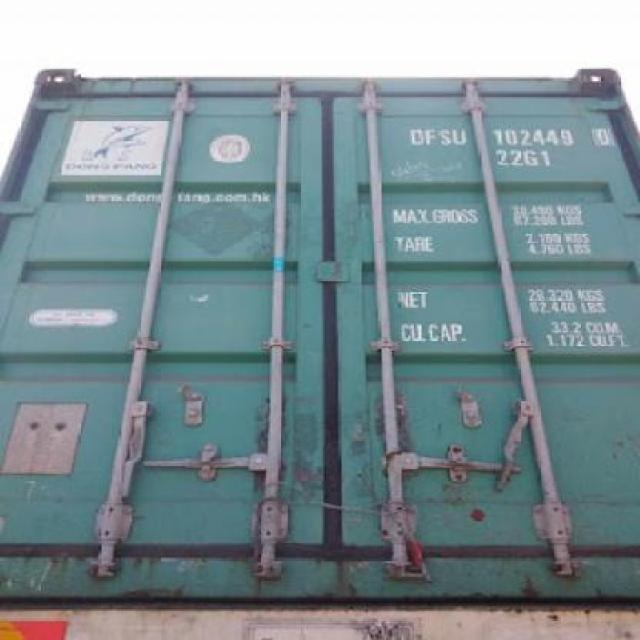ISO: (495, 150, 550, 169)
container_number: (410, 122, 602, 148)
